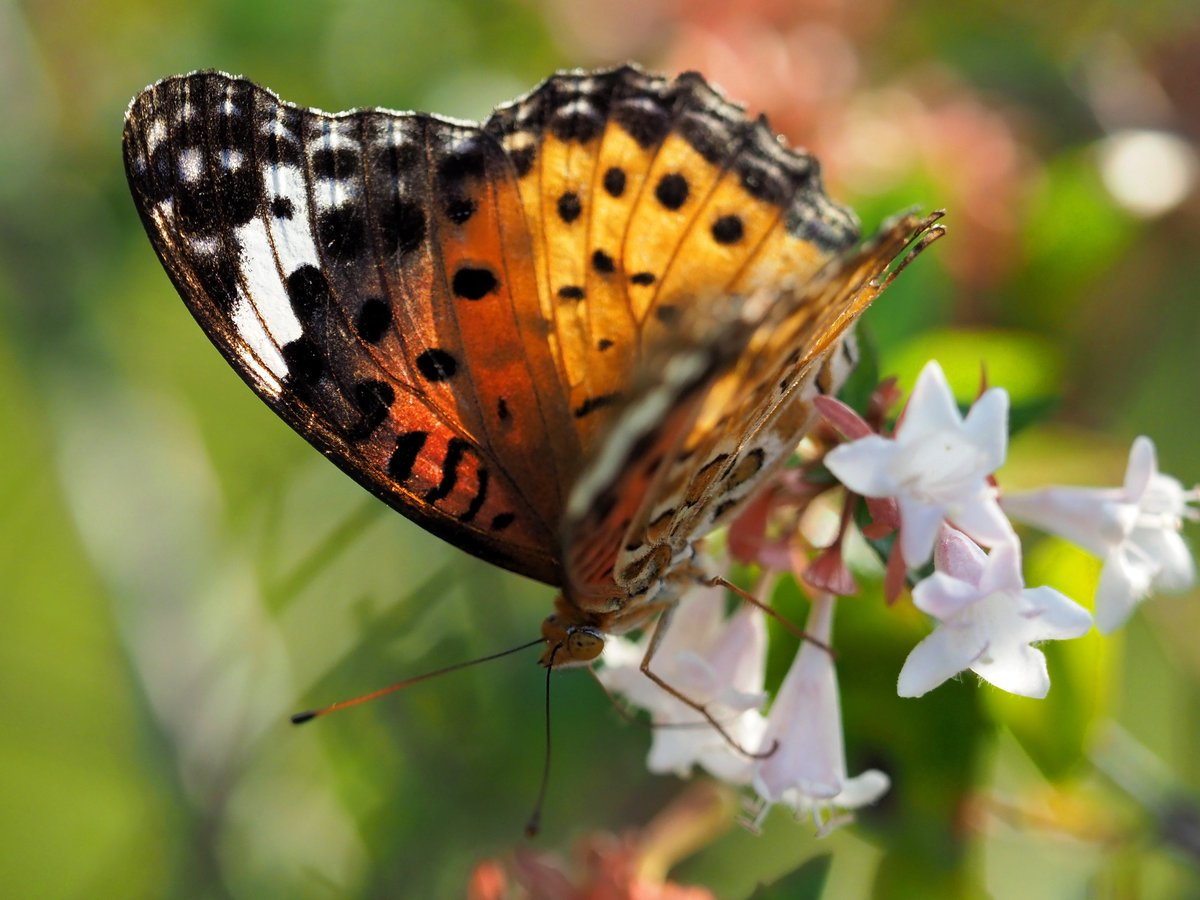Argyreus hyperbius: (106, 67, 974, 838)
butterfly: (104, 65, 972, 836)
